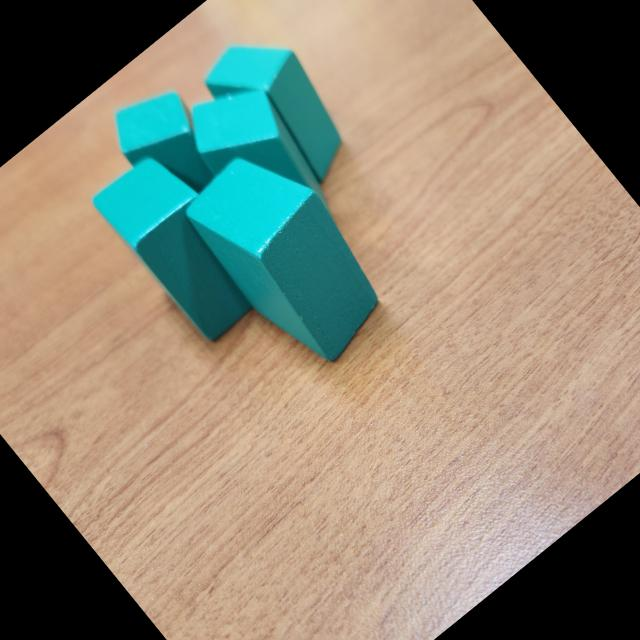green: (172, 131, 408, 382), (87, 139, 283, 349), (170, 64, 360, 266), (194, 16, 370, 200), (100, 74, 236, 215)
